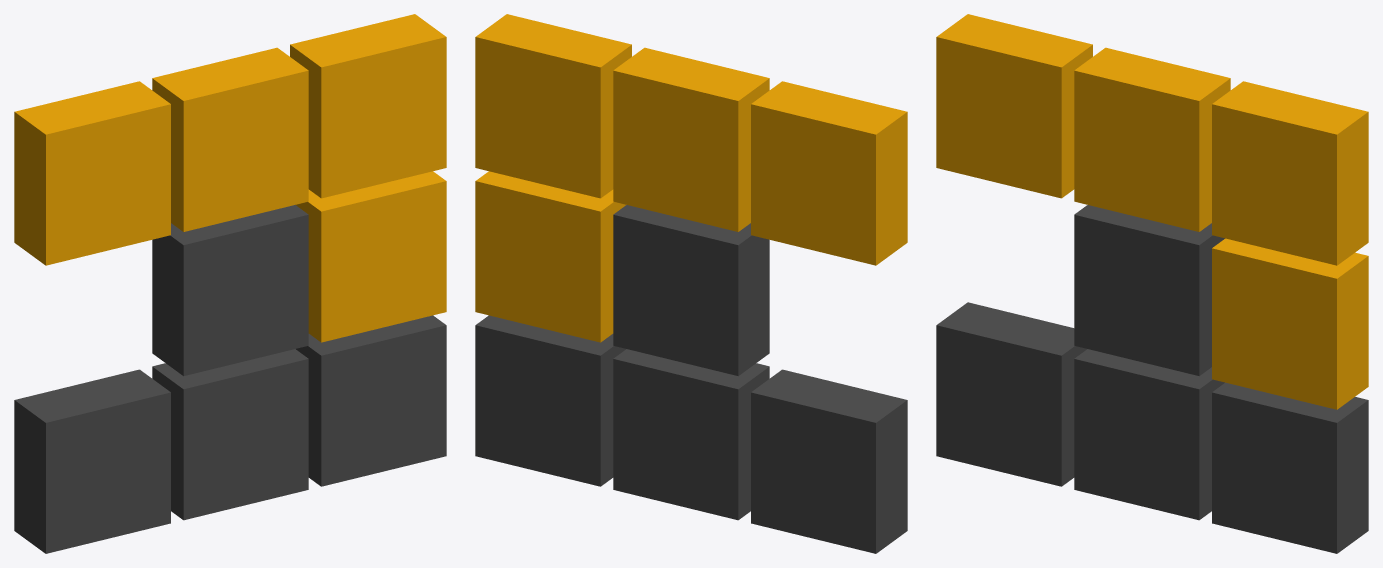
Rendered from pnpm.gltf.
The picture shows the model from 3 angles, left to right: view 1: azimuth 30°, elevation 25°; view 2: azimuth 150°, elevation 25°; view 3: azimuth 330°, elevation 25°; orthographic projection.
Size of the model in its own units: 5 by 5 by 0.678.
